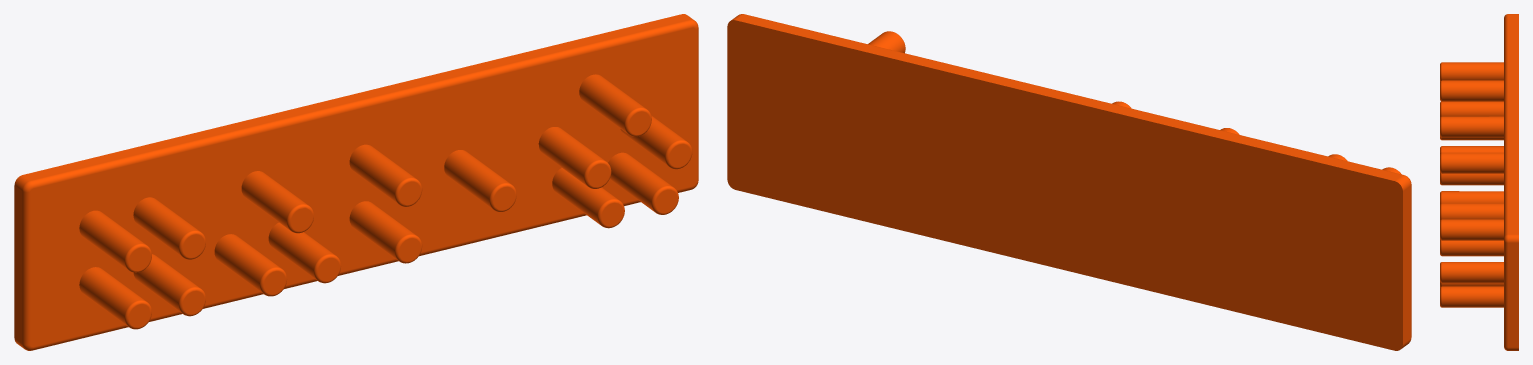
Rendered from toy_five_insertion_base.obj.
3 renders of one model, left to right at view 1: azimuth 30°, elevation 25°; view 2: azimuth 150°, elevation 25°; view 3: azimuth 270°, elevation 25°, orthographic. The views are drawn at different scales.
Bounding box in the file's own units: 0.25 × 0.06 × 0.037.
